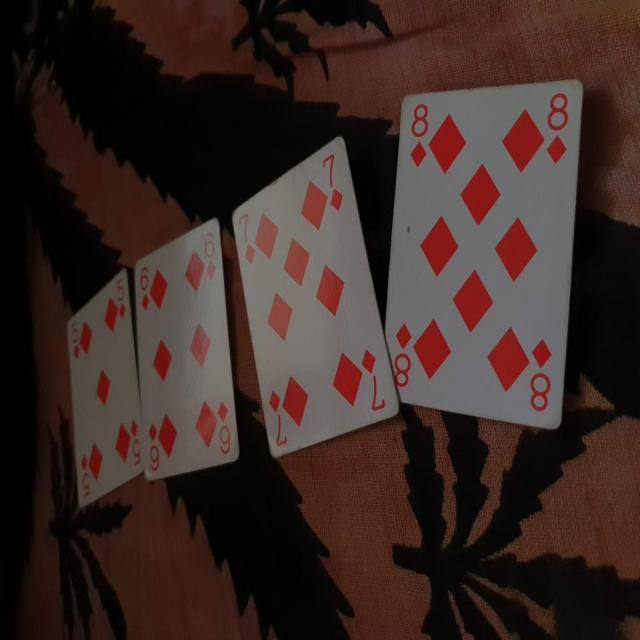5 Diamonds: (63, 266, 150, 509)
6 Diamonds: (130, 212, 238, 489)
7 Diamonds: (230, 134, 400, 457)
8 Diamonds: (383, 77, 589, 435)
